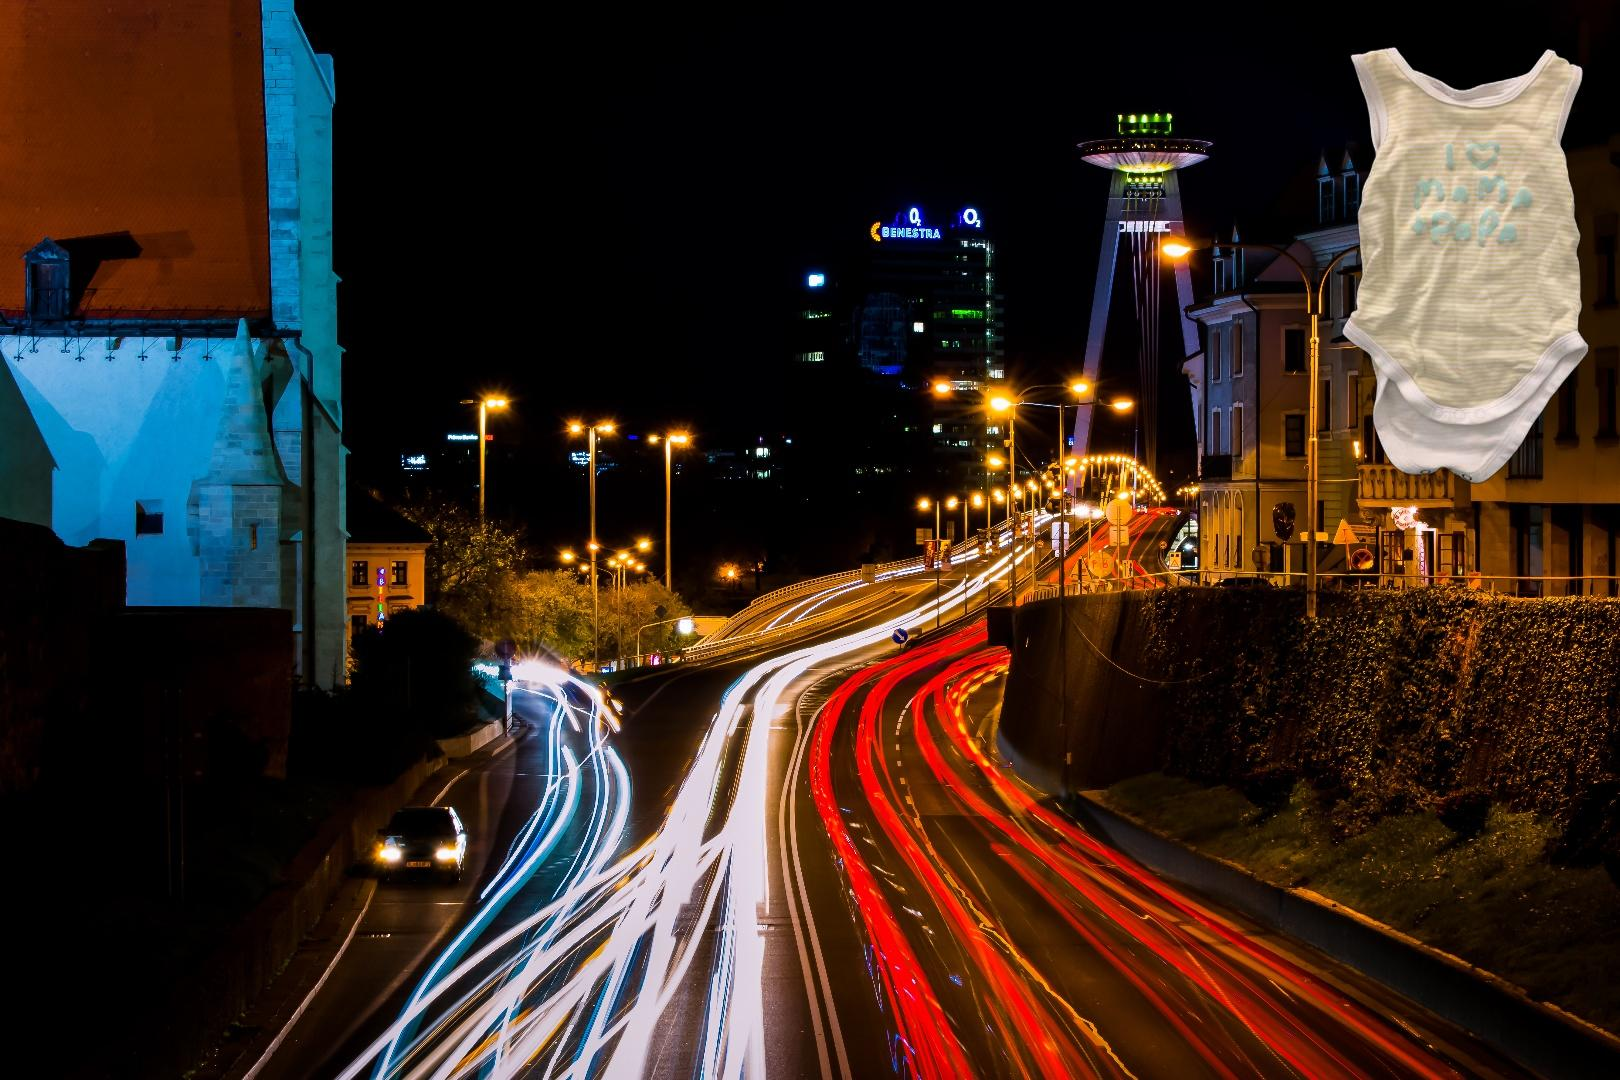clothes: (1338, 42, 1592, 487)
paper-bag: (1618, 548, 1620, 682)
